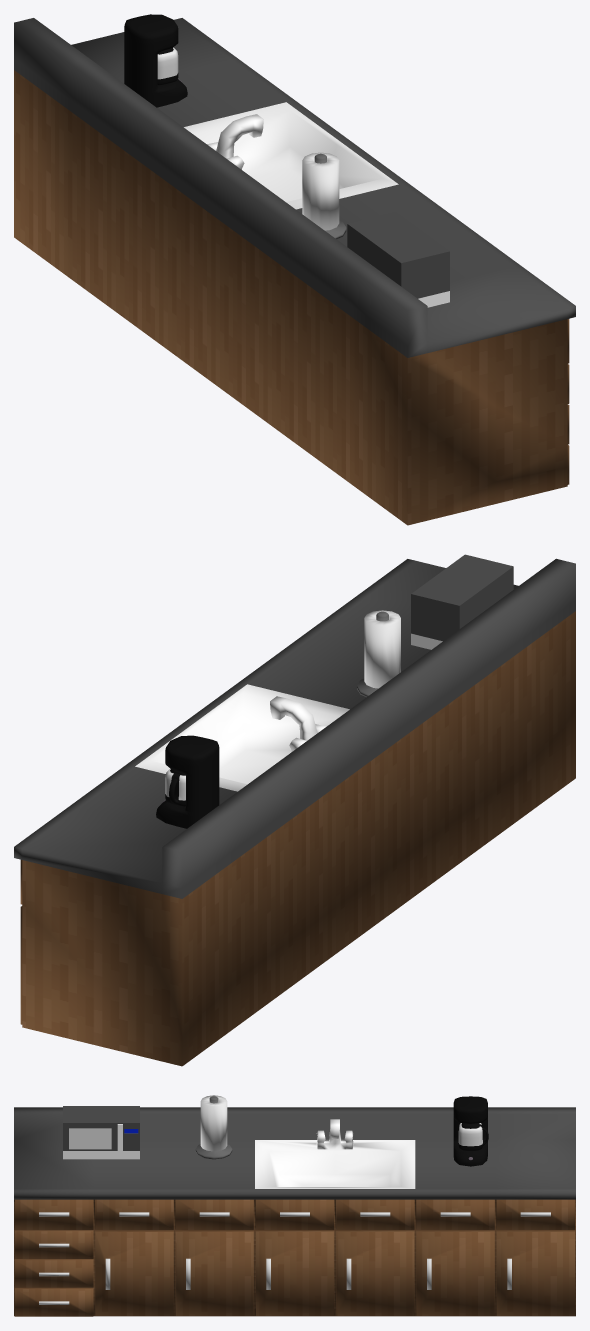
Rendered from break_room_table.fbx.
The picture shows the model from 3 angles, top to bottom: view 1: azimuth 30°, elevation 25°; view 2: azimuth 150°, elevation 25°; view 3: azimuth 270°, elevation 25°; orthographic projection. The views are drawn at different scales.
Parts seen in each view (by area): view 1: BreakRoomTable.001; view 2: BreakRoomTable.001; view 3: BreakRoomTable.001.
Part boxes in pixels (left/top/right/bottom): BreakRoomTable.001: left=14, top=14, right=575, bottom=525; BreakRoomTable.001: left=14, top=554, right=575, bottom=1066; BreakRoomTable.001: left=14, top=1095, right=575, bottom=1316.
Bounding box in the file's own units: 1052 × 1519 × 4261.
